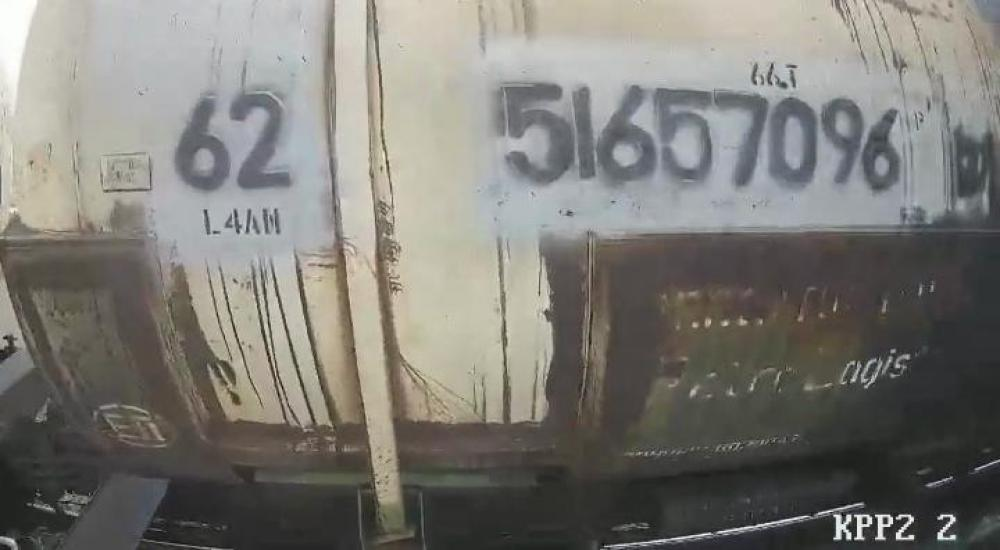Wagon-number: (489, 76, 906, 202)
